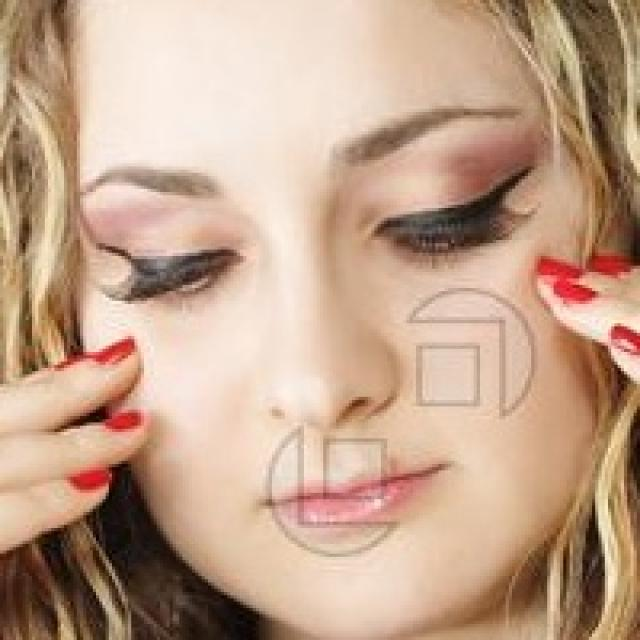Eyeclosed: (373, 185, 508, 268), (106, 238, 230, 304)
